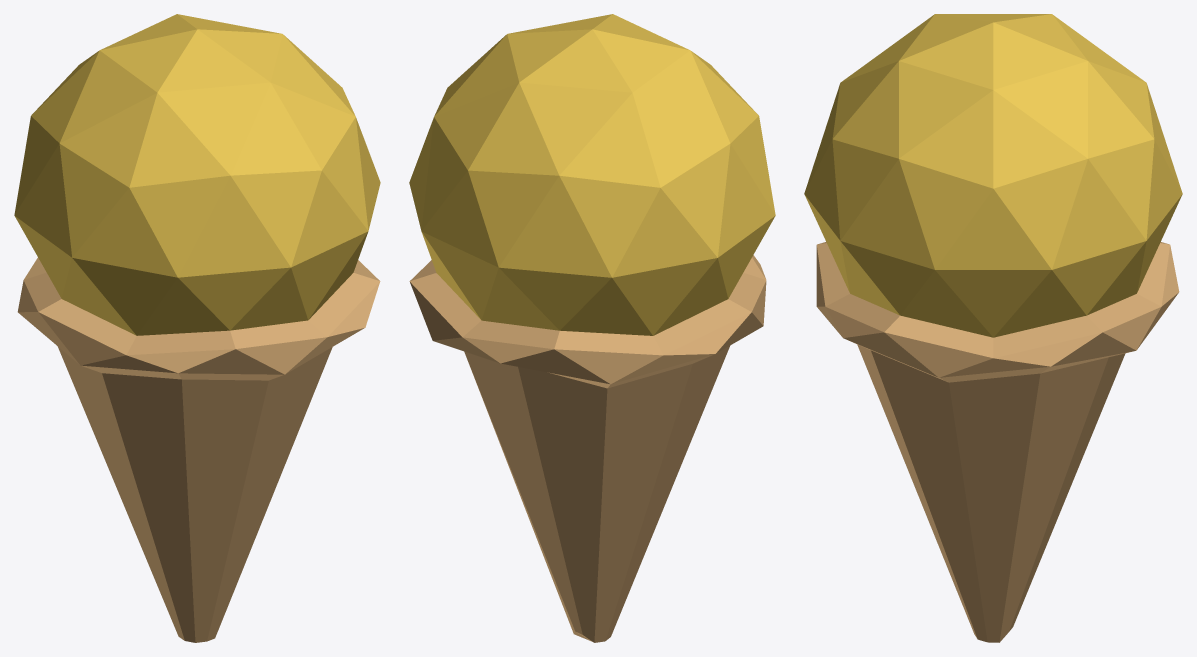
Rendered from ice_lemon.fbx.
3 views of the same model, side by side, from view 1: azimuth 30°, elevation 25°; view 2: azimuth 150°, elevation 25°; view 3: azimuth 270°, elevation 25° (orthographic).
Parts seen in each view (by area): view 1: ice_lemon; view 2: ice_lemon; view 3: ice_lemon.
Boxes of the visible parts, x1,y1,x2,y2 form: ice_lemon: [14, 14, 380, 642]; ice_lemon: [409, 14, 775, 642]; ice_lemon: [804, 14, 1182, 642].
Bounding box in the file's own units: 7.33 × 13.66 × 7.59.
